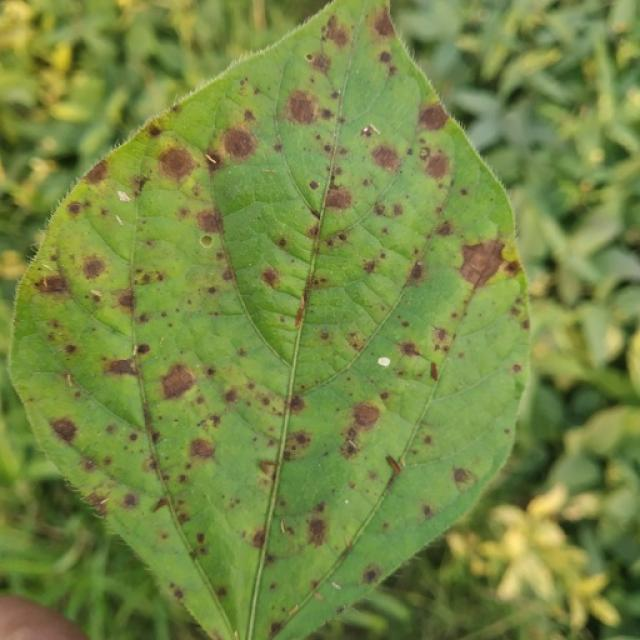Anthracnose: (138, 131, 212, 197), (457, 237, 510, 290), (154, 356, 199, 405), (157, 145, 196, 181), (220, 126, 256, 161), (286, 90, 319, 125), (321, 14, 351, 52), (417, 100, 450, 133), (370, 143, 400, 174), (281, 430, 313, 457), (351, 401, 381, 429), (423, 150, 450, 181), (49, 416, 78, 444), (371, 8, 396, 40), (323, 185, 351, 210), (34, 274, 69, 294), (188, 436, 215, 461), (196, 209, 222, 234), (106, 357, 138, 377), (84, 159, 109, 184), (81, 257, 107, 281), (306, 516, 327, 545), (261, 267, 280, 289), (501, 243, 520, 264), (453, 467, 472, 486), (432, 327, 450, 347), (294, 299, 306, 328), (363, 565, 380, 584), (408, 262, 424, 282), (289, 395, 306, 413), (121, 491, 139, 508), (385, 456, 402, 474), (401, 341, 420, 357), (151, 497, 170, 512), (251, 530, 266, 548), (136, 175, 151, 193), (259, 460, 277, 475), (205, 151, 221, 167), (66, 201, 83, 216), (223, 389, 239, 404), (170, 584, 184, 600), (379, 50, 393, 64), (363, 260, 376, 274), (200, 235, 214, 248), (270, 621, 282, 636), (64, 343, 78, 355), (346, 427, 357, 442), (320, 108, 333, 120), (136, 343, 150, 354), (430, 362, 438, 381), (347, 439, 357, 453), (419, 147, 430, 159), (362, 125, 373, 137), (308, 209, 320, 220), (196, 532, 205, 544), (309, 180, 319, 190), (206, 366, 216, 376), (512, 363, 522, 373), (207, 286, 216, 294), (171, 104, 180, 112), (305, 53, 313, 61)
Blackgram: (10, 0, 528, 639)
